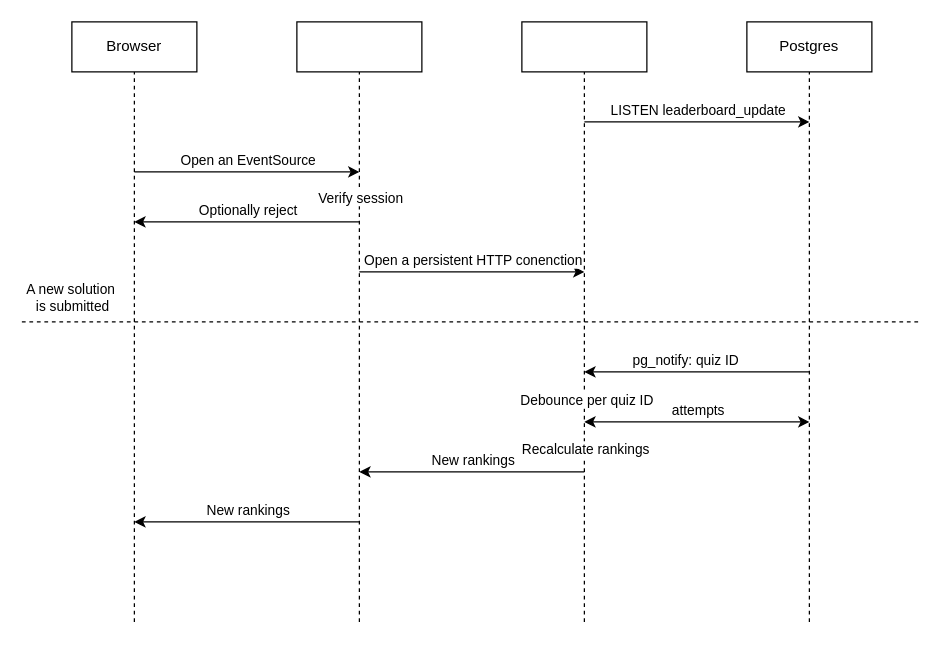
Image size: 945x645. Some labels were removed from this diagram. The shapes that lost their labels are listed below. From the top down, each one's centre as x and y in pixels, then its label:
At [359,46]: "BFF".
At [584,46]: "Backend".
